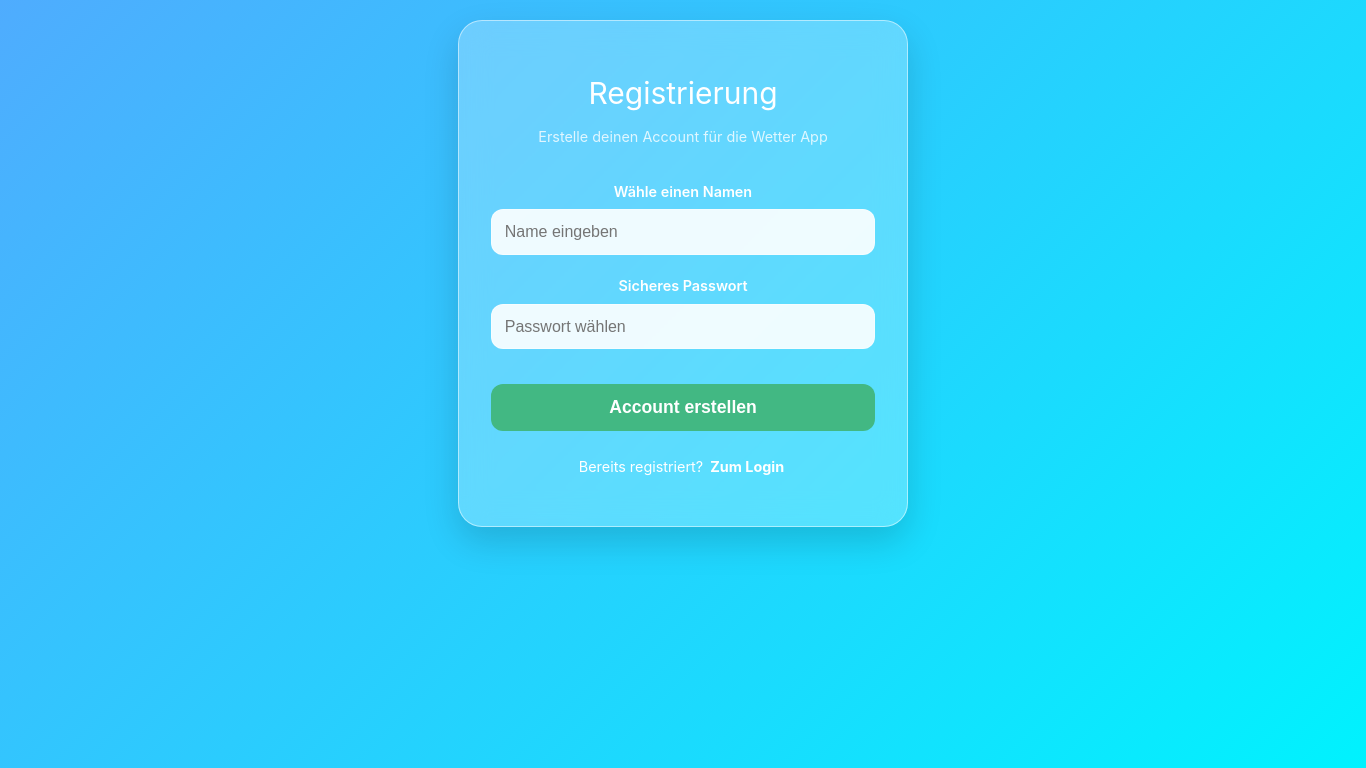
Test case: RegisterView › Test 4: Zeigt Erfolgsmeldung nach erfolgreicher Registrierung
Note: Benutzerdaten in die Felder eintragen
Type "NewUser" into the field with placeholder "Name eingeben" at coordinates (683, 232), box [491,210,875,255]
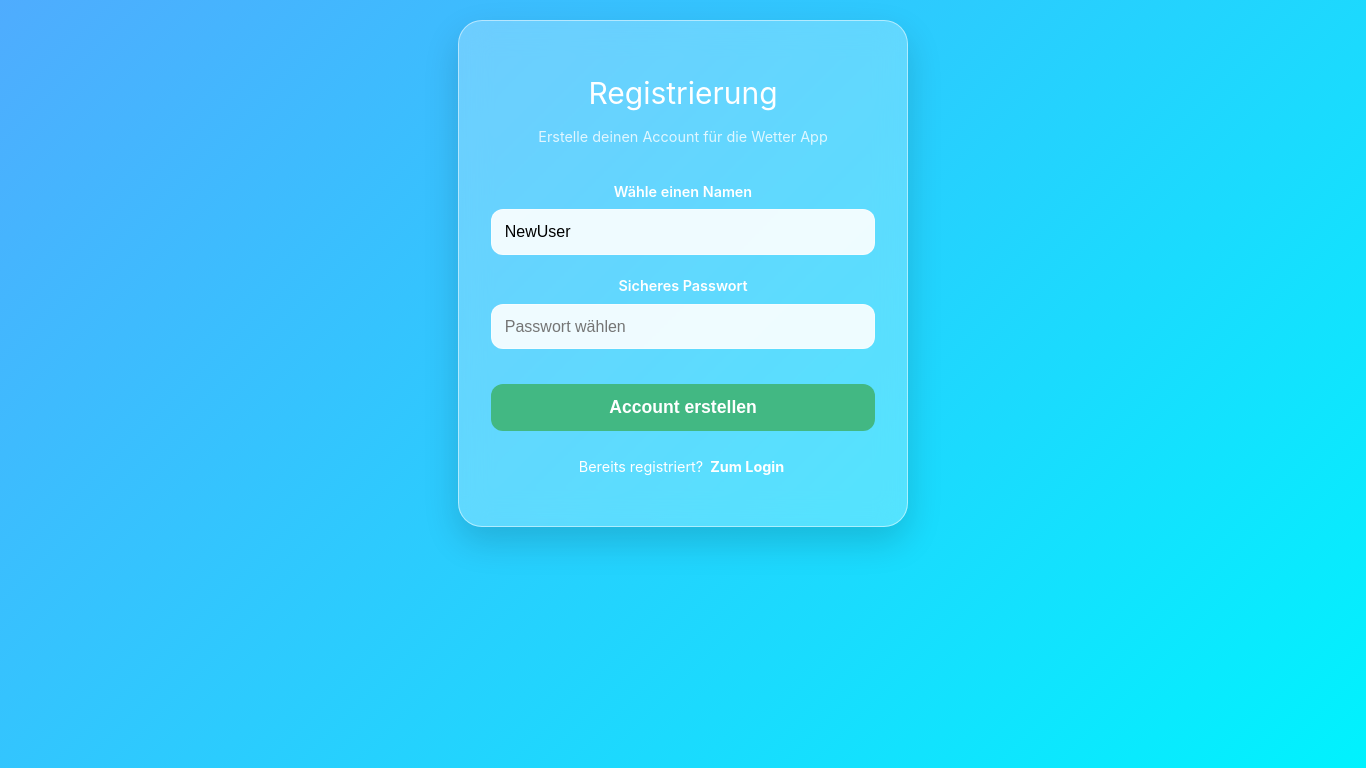
Type "securePass" into the password field with placeholder "Passwort wählen" at coordinates (683, 326), box [491,304,875,349]
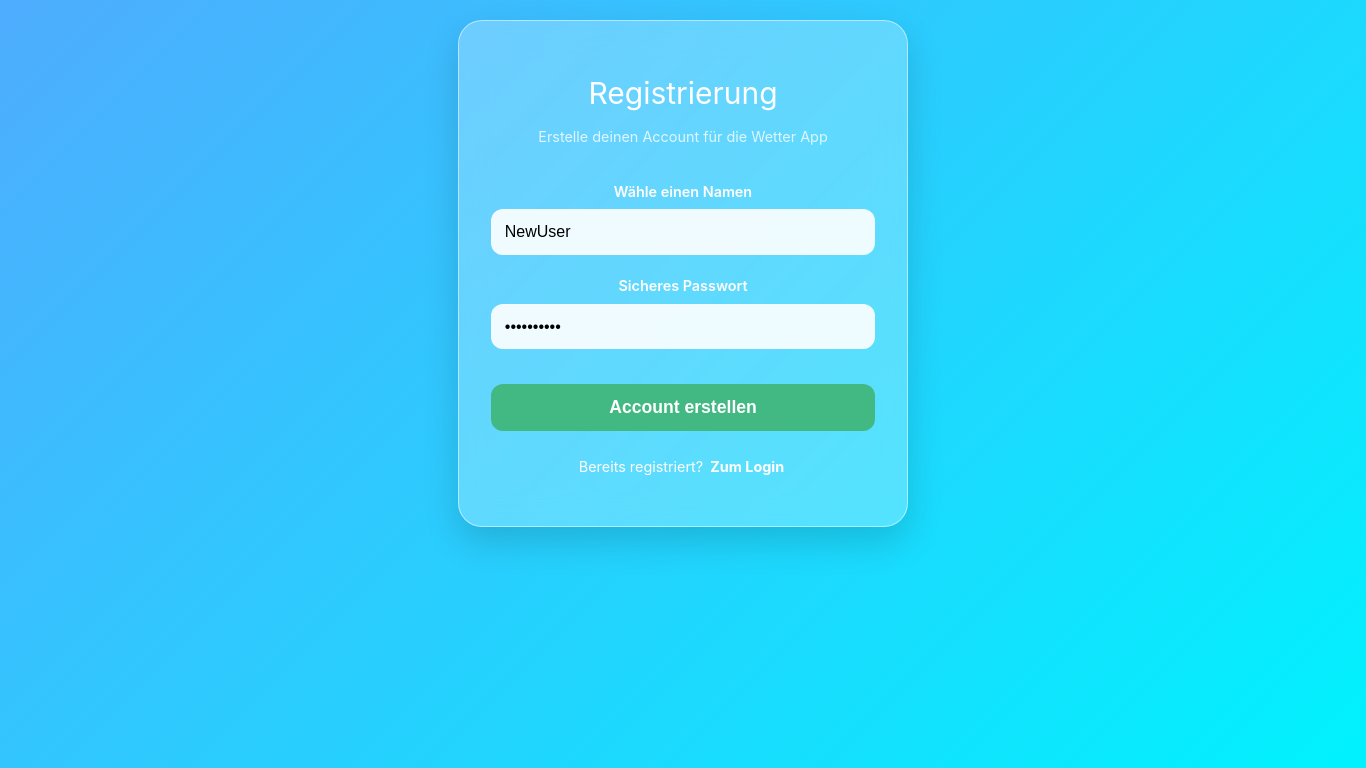
Note: Formular-Submit auslösen
Submit the form, box [491,180,875,431]
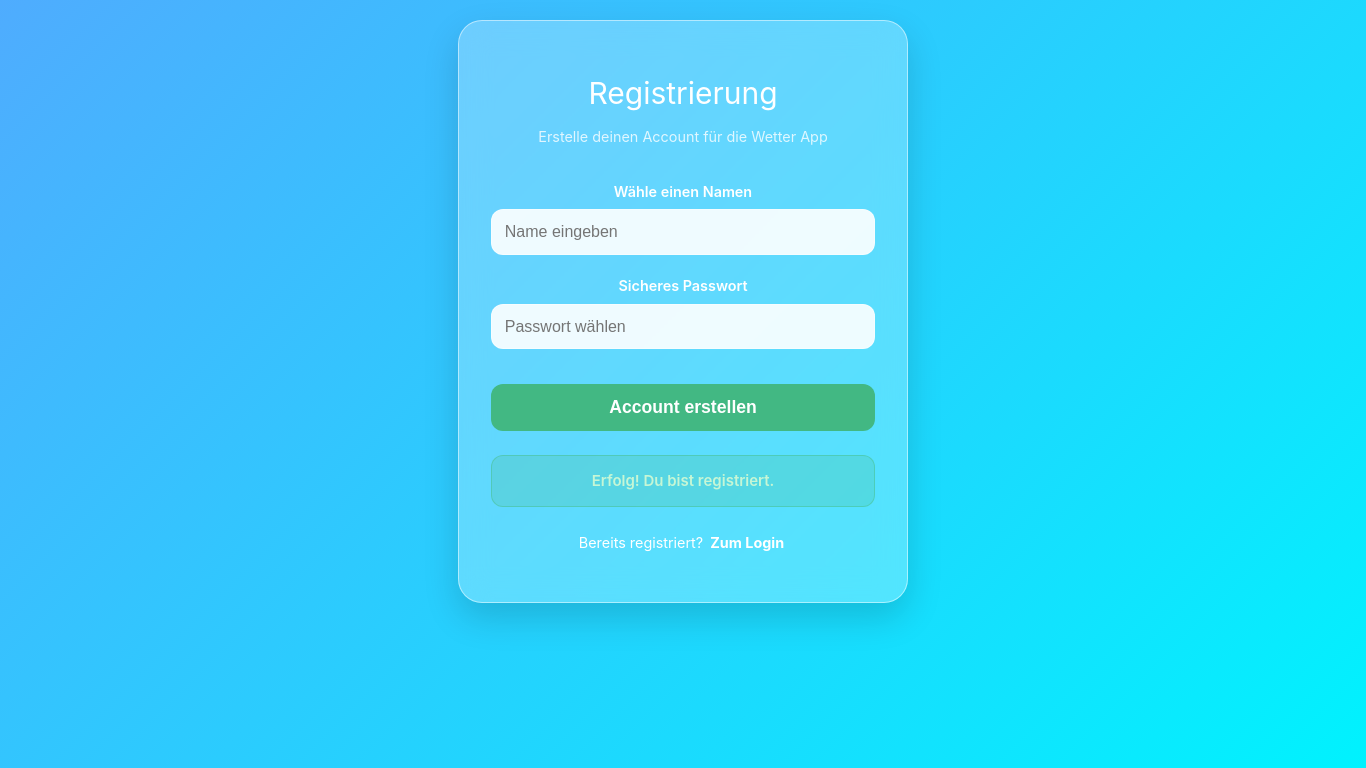
Check: the text "Erfolg! Du bist registriert." is shown, box [491,455,875,507]
